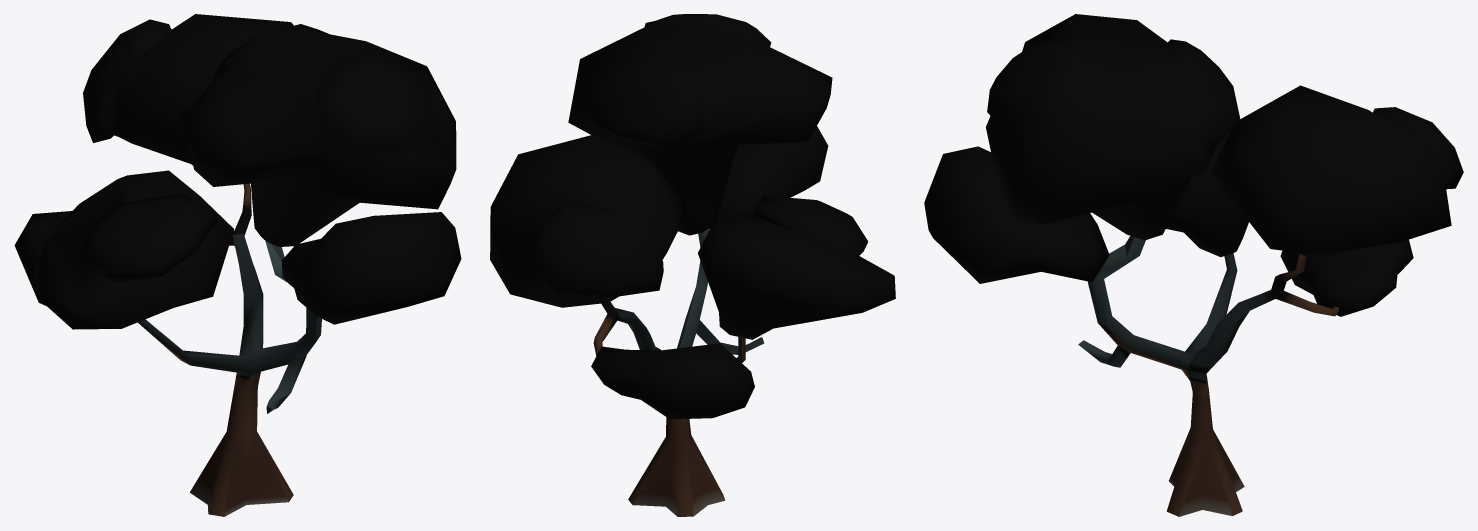
The model's file is Tree_2H.fbx.
3 views of the same model, side by side, from view 1: azimuth 30°, elevation 25°; view 2: azimuth 150°, elevation 25°; view 3: azimuth 270°, elevation 25° (orthographic). The views are drawn at different scales.
Visible parts, largest first — view 1: Tree_2H; view 2: Tree_2H; view 3: Tree_2H.
Boxes of the visible parts, box(x1,y1,x2,y2) form: Tree_2H: box(14, 14, 461, 516); Tree_2H: box(490, 14, 895, 516); Tree_2H: box(924, 14, 1463, 516).
Bounding box in the file's own units: 9.04 × 11.19 × 11.68.
